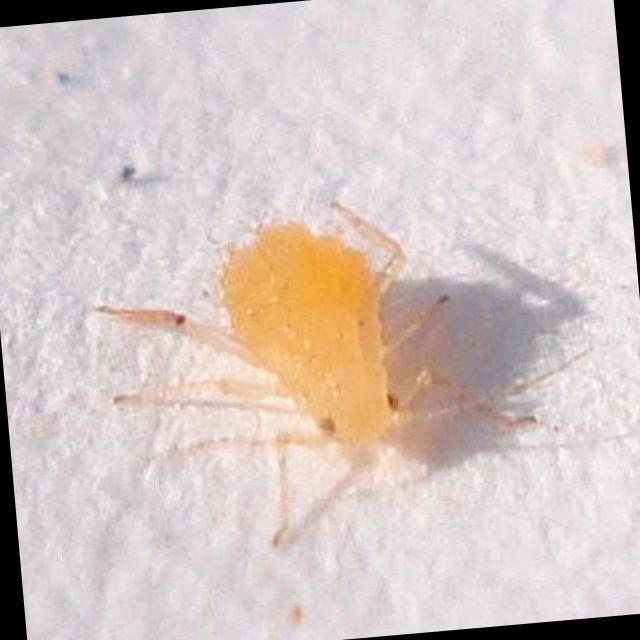aphid: (92, 152, 547, 580)
